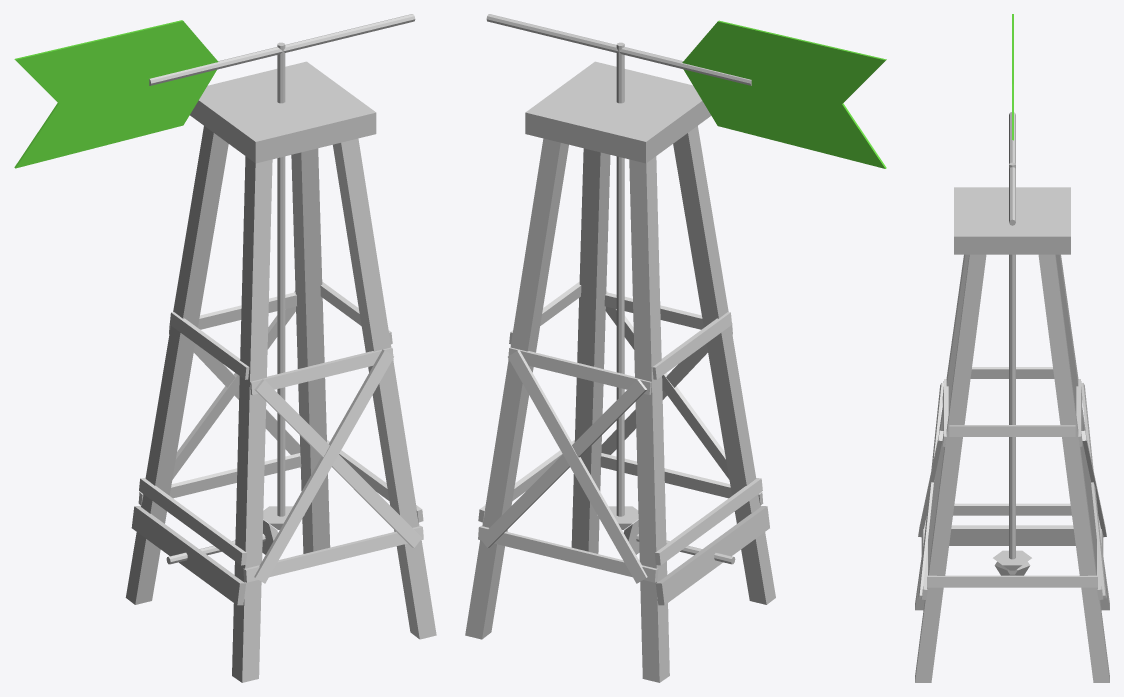
The model's file is windmillBase.glb.
The picture shows the model from 3 angles, left to right: view 1: azimuth 30°, elevation 25°; view 2: azimuth 150°, elevation 25°; view 3: azimuth 270°, elevation 25°; orthographic projection. The views are drawn at different scales.
Parts seen in each view (by area): view 1: WoodStand, supports, DirectiionBlade, Shaft; view 2: WoodStand, supports, DirectiionBlade, Shaft; view 3: WoodStand, supports, Shaft.
Boxes of the visible parts, <box> form: WoodStand: <box>125,61,436,682</box>; supports: <box>138,282,423,583</box>; DirectiionBlade: <box>14,20,218,168</box>; Shaft: <box>149,14,415,564</box>; WoodStand: <box>465,61,775,682</box>; supports: <box>478,281,763,583</box>; DirectiionBlade: <box>682,20,886,168</box>; Shaft: <box>486,14,751,564</box>; WoodStand: <box>915,187,1109,682</box>; supports: <box>918,367,1106,599</box>; Shaft: <box>993,112,1031,575</box>.
Size of the model in its own units: 4.85 by 7.25 by 2.46.
